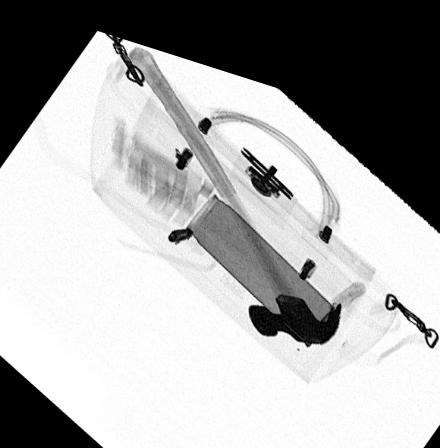Hammer: (127, 36, 341, 323)
